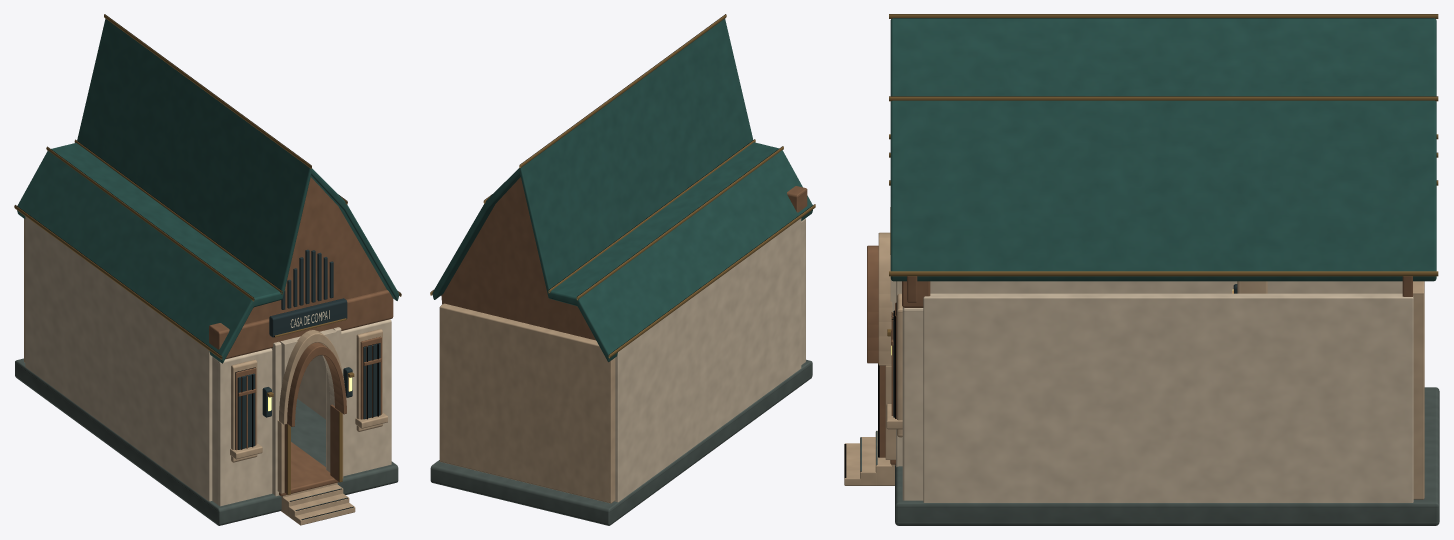
The model's file is compaii-atelier-facade.glb.
3 renders of one model, left to right at view 1: azimuth 30°, elevation 25°; view 2: azimuth 150°, elevation 25°; view 3: azimuth 270°, elevation 25°, orthographic. The views are drawn at different scales.
Parts seen in each view (by area): view 1: VIS · House; view 2: VIS · House; view 3: VIS · House.
Part boxes in pixels (bbox=[...]): VIS · House: bbox=[14, 14, 401, 525]; VIS · House: bbox=[430, 14, 815, 525]; VIS · House: bbox=[844, 14, 1439, 525].
Size of the model in its own units: 1.47 by 2.65 by 3.15.
9 materials, 9 textured.
